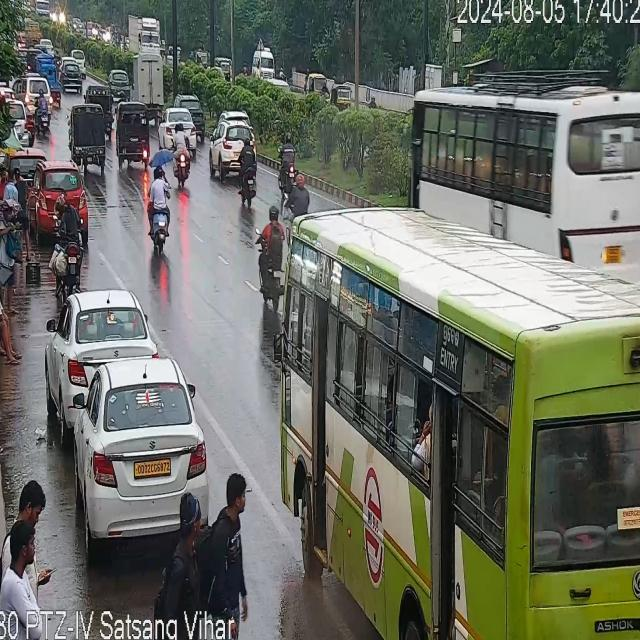2-wheelers: (52, 190, 84, 280), (142, 165, 174, 253), (276, 140, 308, 222), (259, 204, 283, 304), (228, 144, 262, 202), (171, 131, 199, 189), (36, 89, 50, 135)
auto: (112, 102, 158, 166), (74, 104, 114, 168), (96, 89, 112, 138), (306, 71, 326, 98), (332, 86, 352, 111)
bus: (273, 211, 640, 640), (403, 61, 640, 270)
car: (56, 359, 215, 549), (52, 290, 152, 396), (34, 165, 92, 223), (210, 125, 258, 175), (12, 68, 50, 123), (108, 62, 130, 106), (58, 56, 86, 89), (216, 110, 255, 132), (172, 92, 204, 111)
pedestrian: (200, 478, 260, 634), (3, 480, 57, 614), (168, 490, 210, 640), (0, 263, 19, 362), (15, 476, 45, 520)
truck: (133, 52, 167, 108)
